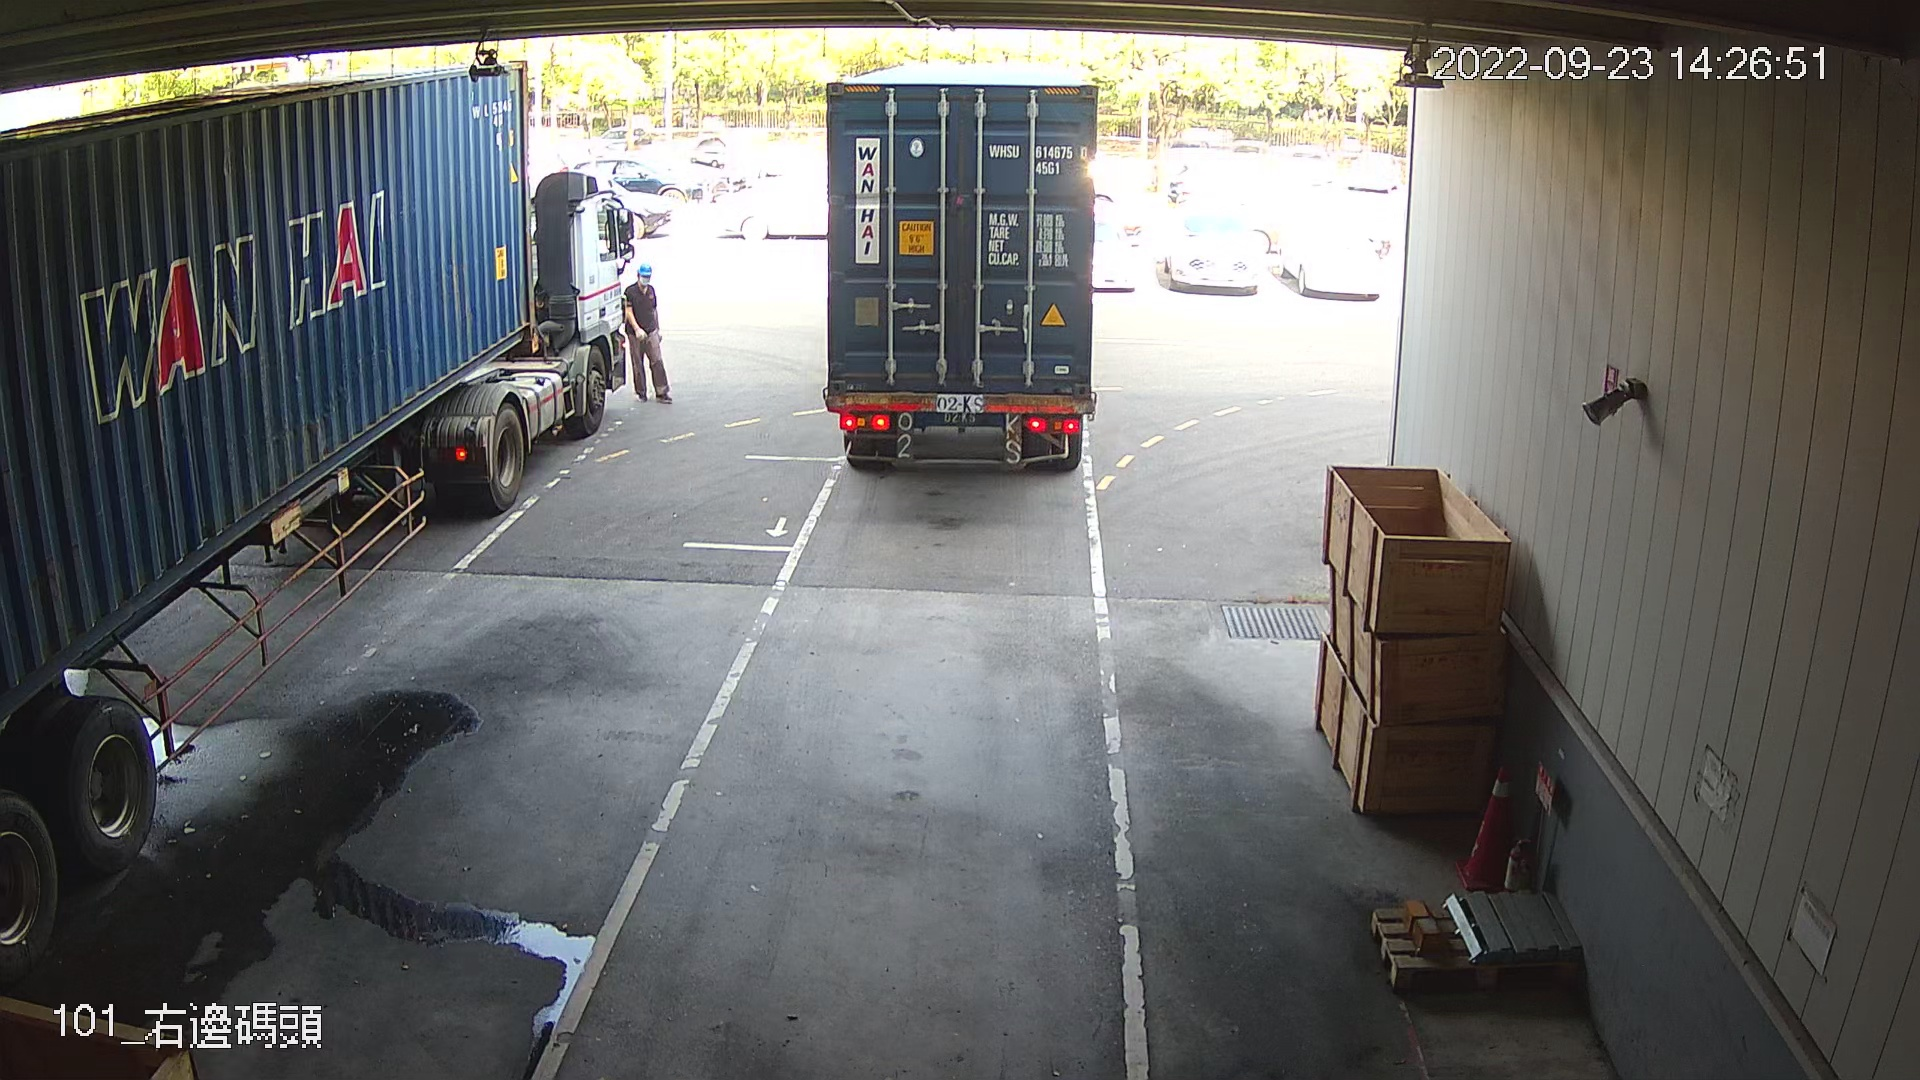container: (985, 136, 1091, 179)
